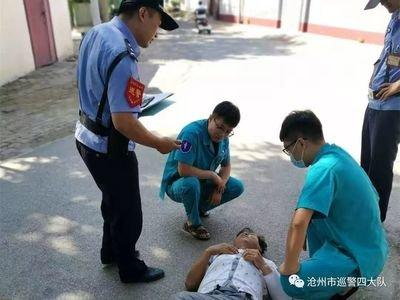bending: (268, 108, 389, 297), (157, 100, 243, 240)
down: (168, 226, 280, 300)
up: (71, 1, 168, 284), (357, 1, 400, 224)
